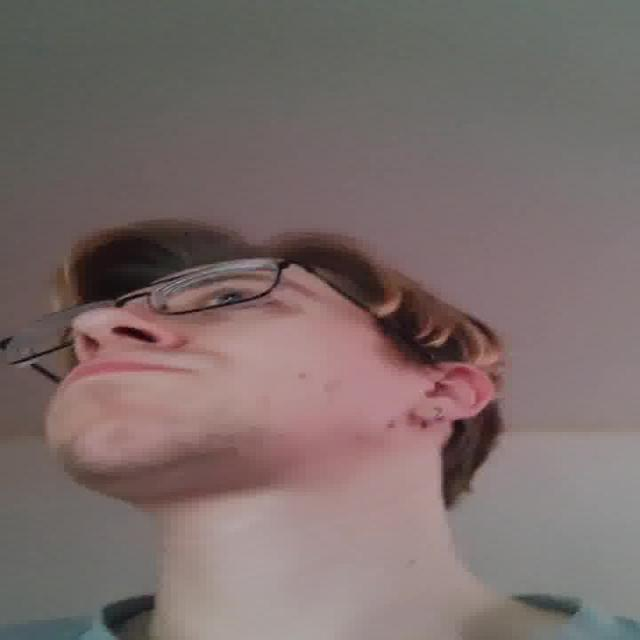earlobe: (410, 401, 456, 423)
eye: (190, 288, 272, 313)
nose: (68, 337, 172, 367)
wholeear: (409, 361, 495, 422)
